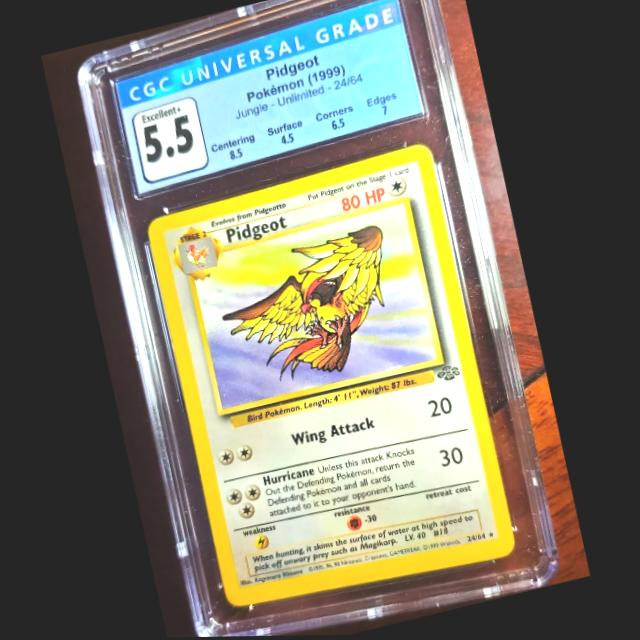card: (144, 144, 521, 608)
cgc_label_old: (114, 0, 424, 195)
cgc_slab: (72, 0, 568, 638)
